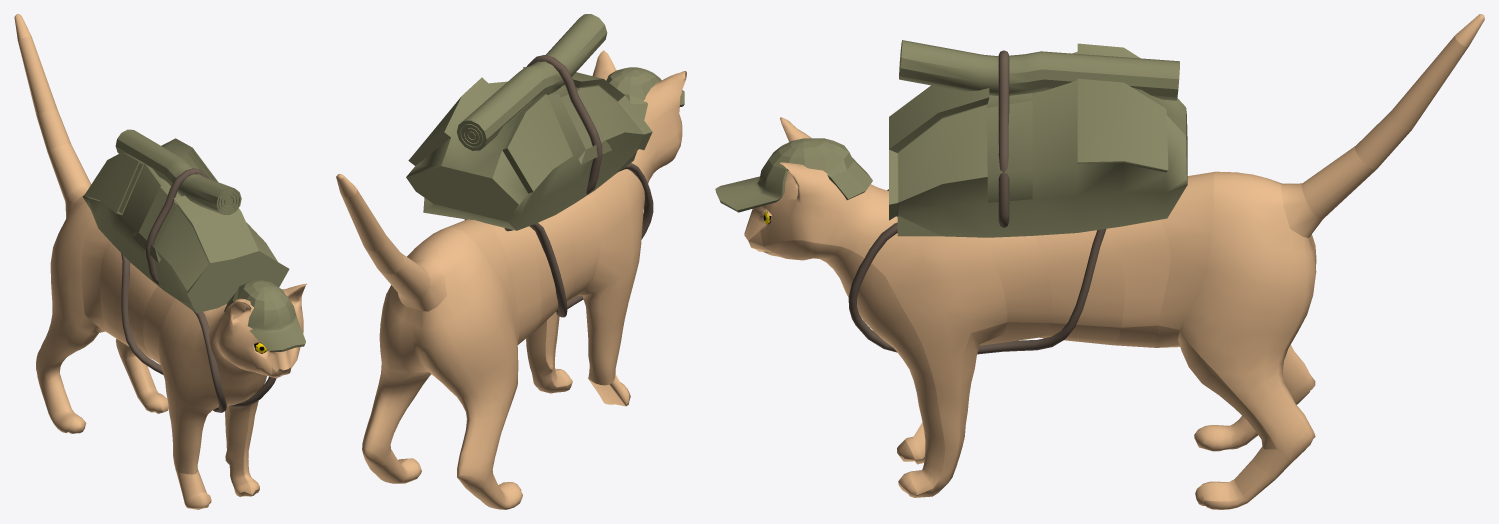
Rendered from Cat For Rig.fbx.
3 renders of one model, left to right at view 1: azimuth 30°, elevation 25°; view 2: azimuth 150°, elevation 25°; view 3: azimuth 270°, elevation 25°, orthographic. The views are drawn at different scales.
Parts seen in each view (by area): view 1: polySurface31, pCube1, pCylinder1, pSphere1, sweep2, sweep3, sweep1; view 2: polySurface31, pCube1, pCylinder1, sweep2, sweep3, pSphere1; view 3: polySurface31, pCube1, pCylinder1, pSphere1, sweep1, sweep3.
Boxes of the visible parts, x1=… form: polySurface31: x1=14, y1=14, x2=306, y2=509; pCube1: x1=82, y1=138, x2=289, y2=313; pCylinder1: x1=115, y1=129, x2=241, y2=214; pSphere1: x1=224, y1=280, x2=305, y2=352; sweep2: x1=121, y1=253, x2=226, y2=412; sweep3: x1=145, y1=168, x2=209, y2=284; sweep1: x1=231, y1=376, x2=276, y2=407; polySurface31: x1=336, y1=50, x2=686, y2=509; pCube1: x1=406, y1=67, x2=652, y2=230; pCylinder1: x1=457, y1=14, x2=607, y2=150; sweep2: x1=504, y1=163, x2=653, y2=317; sweep3: x1=526, y1=55, x2=602, y2=194; pSphere1: x1=606, y1=67, x2=684, y2=120; polySurface31: x1=744, y1=14, x2=1484, y2=509; pCube1: x1=889, y1=43, x2=1187, y2=237; pCylinder1: x1=899, y1=40, x2=1179, y2=100; pSphere1: x1=715, y1=138, x2=872, y2=212; sweep1: x1=848, y1=222, x2=1106, y2=354; sweep3: x1=998, y1=50, x2=1009, y2=227.
Size of the model in its own units: 3.63 by 10.43 by 15.75.
